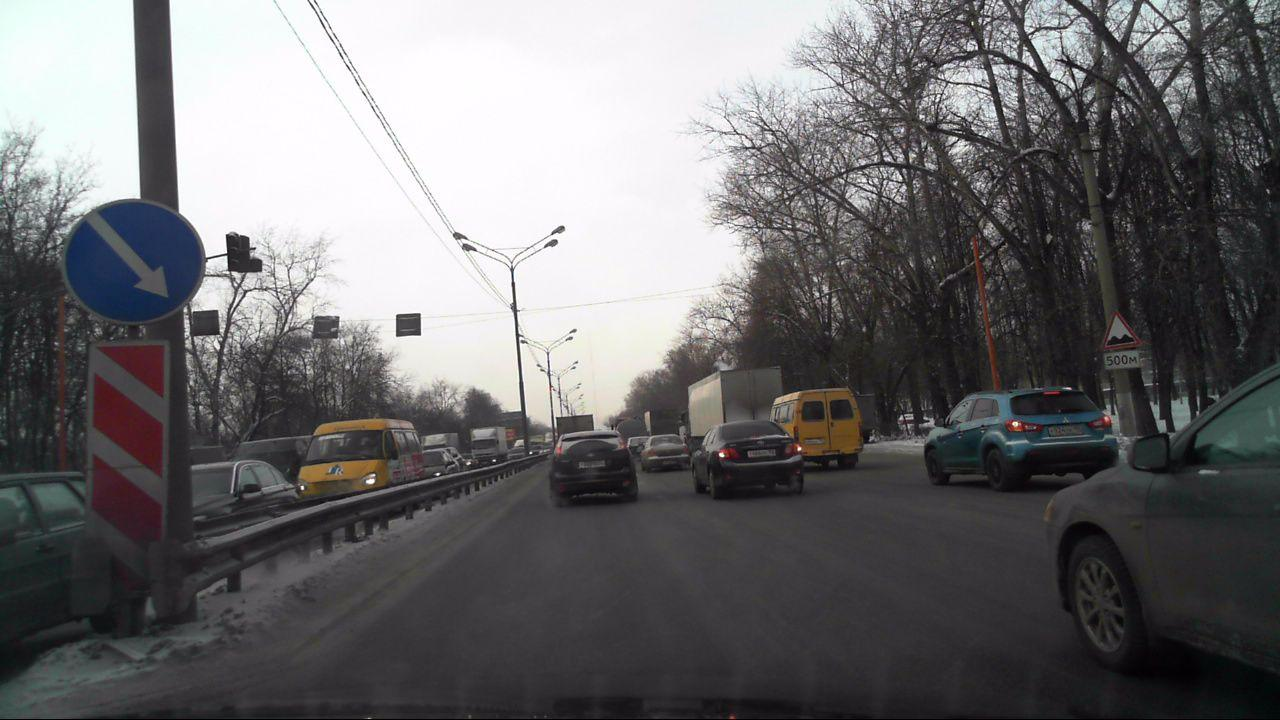1_16: (1100, 310, 1141, 350)
4_2_1: (61, 193, 207, 324)
8_1_1: (1104, 352, 1140, 368)
8_22_1: (85, 337, 172, 598)
